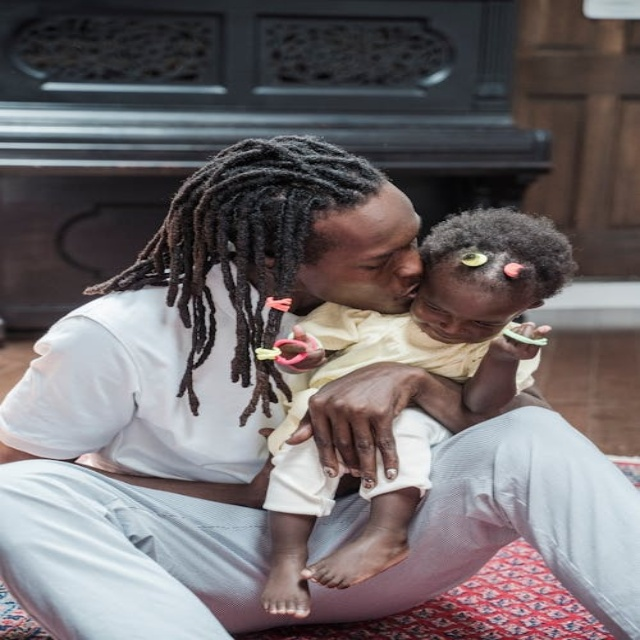Sin_gafas: (310, 219, 422, 272), (419, 291, 511, 329)
Sin_guantes: (290, 366, 425, 482), (479, 317, 558, 361)
Sin_mascara: (358, 282, 426, 308), (422, 326, 488, 351)
